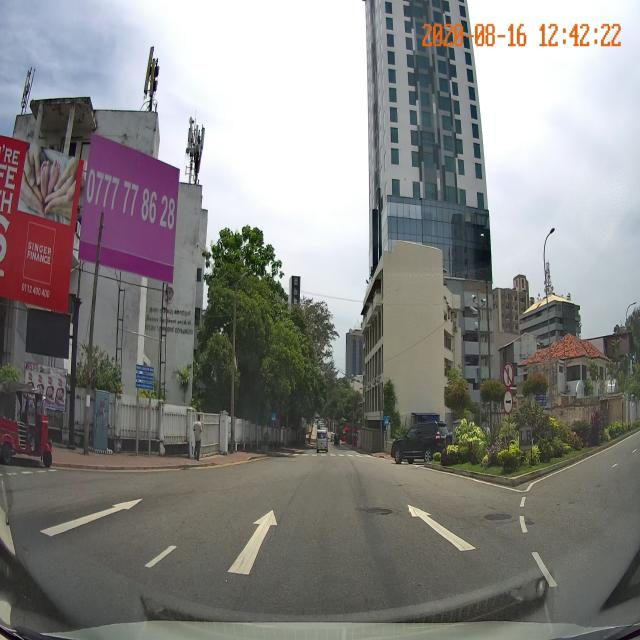Strelka vpered: (39, 498, 144, 537), (407, 504, 477, 552), (227, 510, 278, 575)
